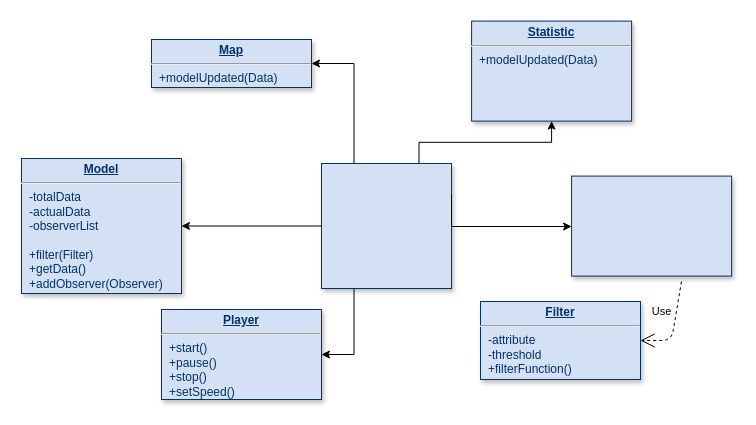
This 756x425 diagram has some shape labels left out. Here are the shapes that lost their labels. From the top down, the centre of each, then its label:
point (387, 227): Controller +filterUpdated(Filter)
point (652, 227): FilterView +modelUpdated(Data)
